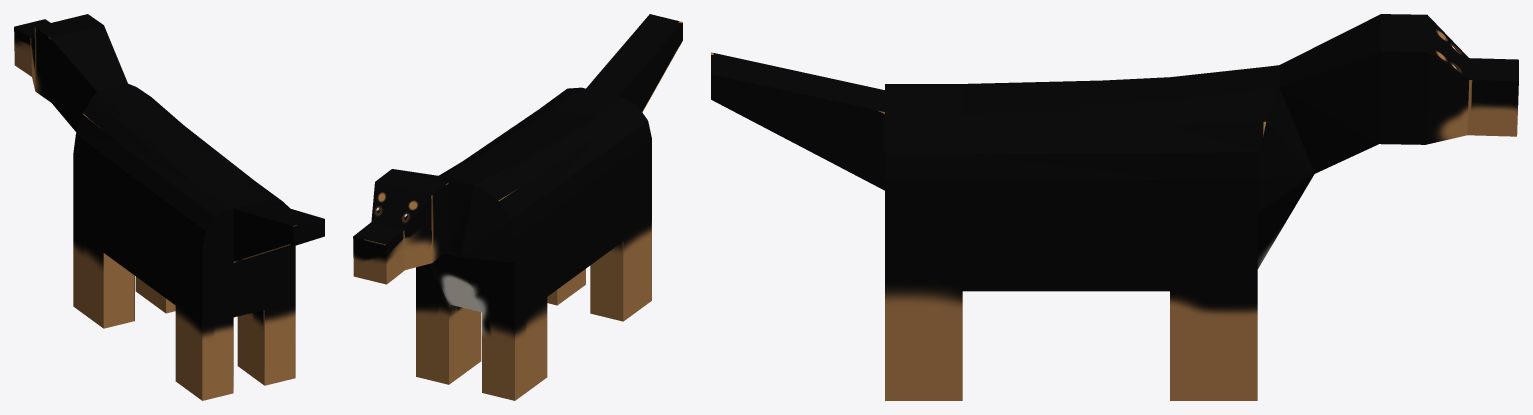
File: doge.glb
3 views of the same model, side by side, from view 1: azimuth 30°, elevation 25°; view 2: azimuth 150°, elevation 25°; view 3: azimuth 270°, elevation 25° (orthographic). The views are drawn at different scales.
Visible parts, largest first — view 1: Cube; view 2: Cube; view 3: Cube.
Boxes of the visible parts, <box> form: Cube: <box>14,14,324,400</box>; Cube: <box>353,14,682,400</box>; Cube: <box>711,14,1518,400</box>.
Size of the model in its own units: 0.9293 by 2.21 by 4.82.
Materials: 1 (1 with a texture image).
